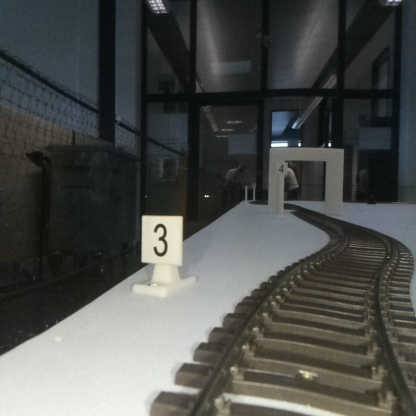white-info-4: (276, 162, 287, 217)
white-stop-3: (141, 216, 183, 294)
